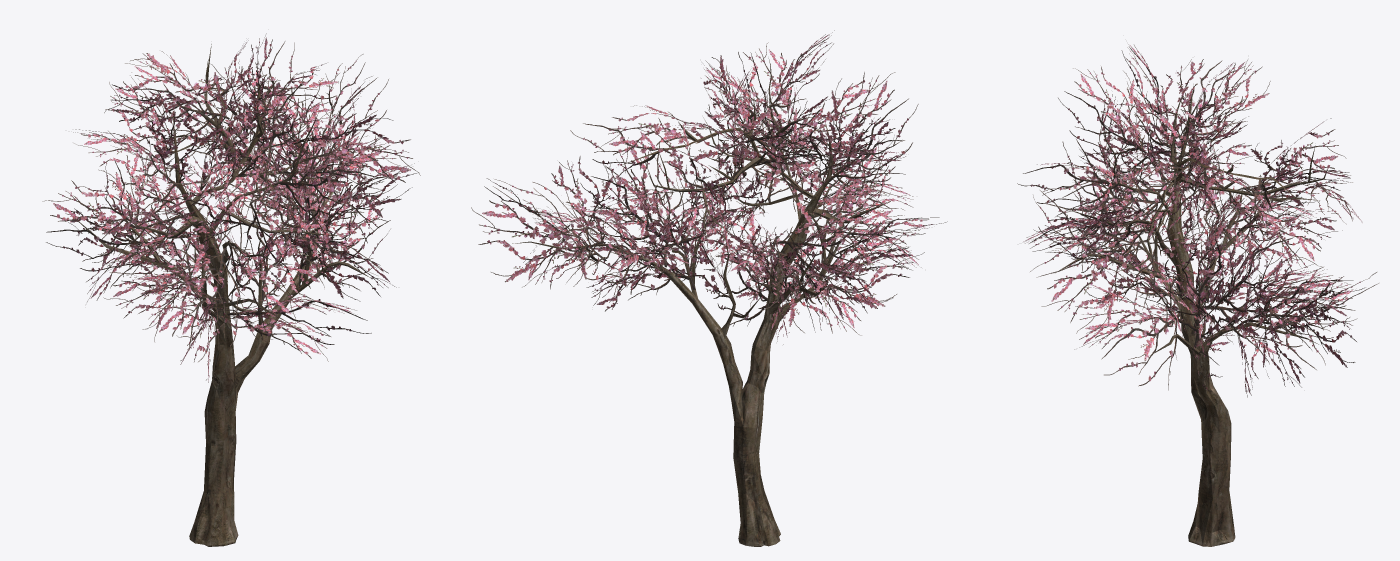
Rendered from bg_anh_tree_apricottree01_sm_phs.FBX.
The picture shows the model from 3 angles, left to right: view 1: azimuth 30°, elevation 25°; view 2: azimuth 150°, elevation 25°; view 3: azimuth 270°, elevation 25°; orthographic projection. The views are drawn at different scales.
Visible parts, largest first — view 1: bg_anh_tree_apricottree01_sm_phs; view 2: bg_anh_tree_apricottree01_sm_phs; view 3: bg_anh_tree_apricottree01_sm_phs.
Part boxes in pixels (<box>): bg_anh_tree_apricottree01_sm_phs: <box>42,33,420,546</box>; bg_anh_tree_apricottree01_sm_phs: <box>471,30,947,546</box>; bg_anh_tree_apricottree01_sm_phs: <box>1017,44,1378,546</box>.
Size of the model in its own units: 471 by 556 by 411.
